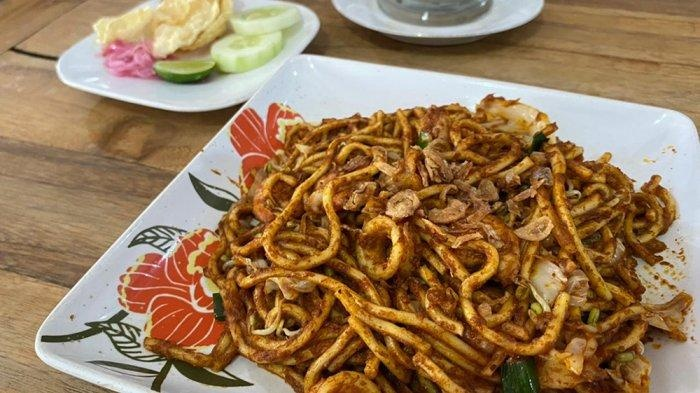mie_aceh: (203, 101, 682, 393)
